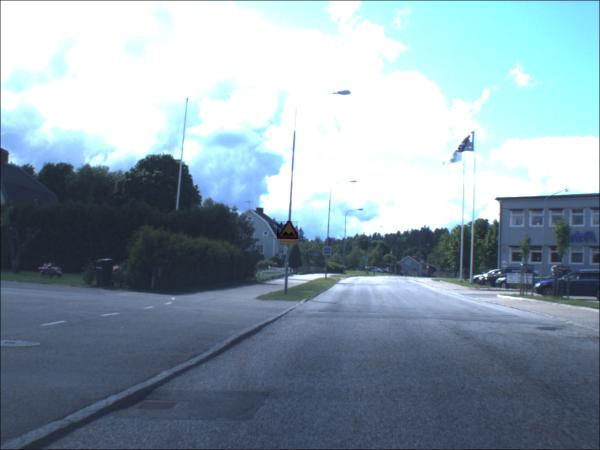WARNING: (277, 222, 299, 241)
